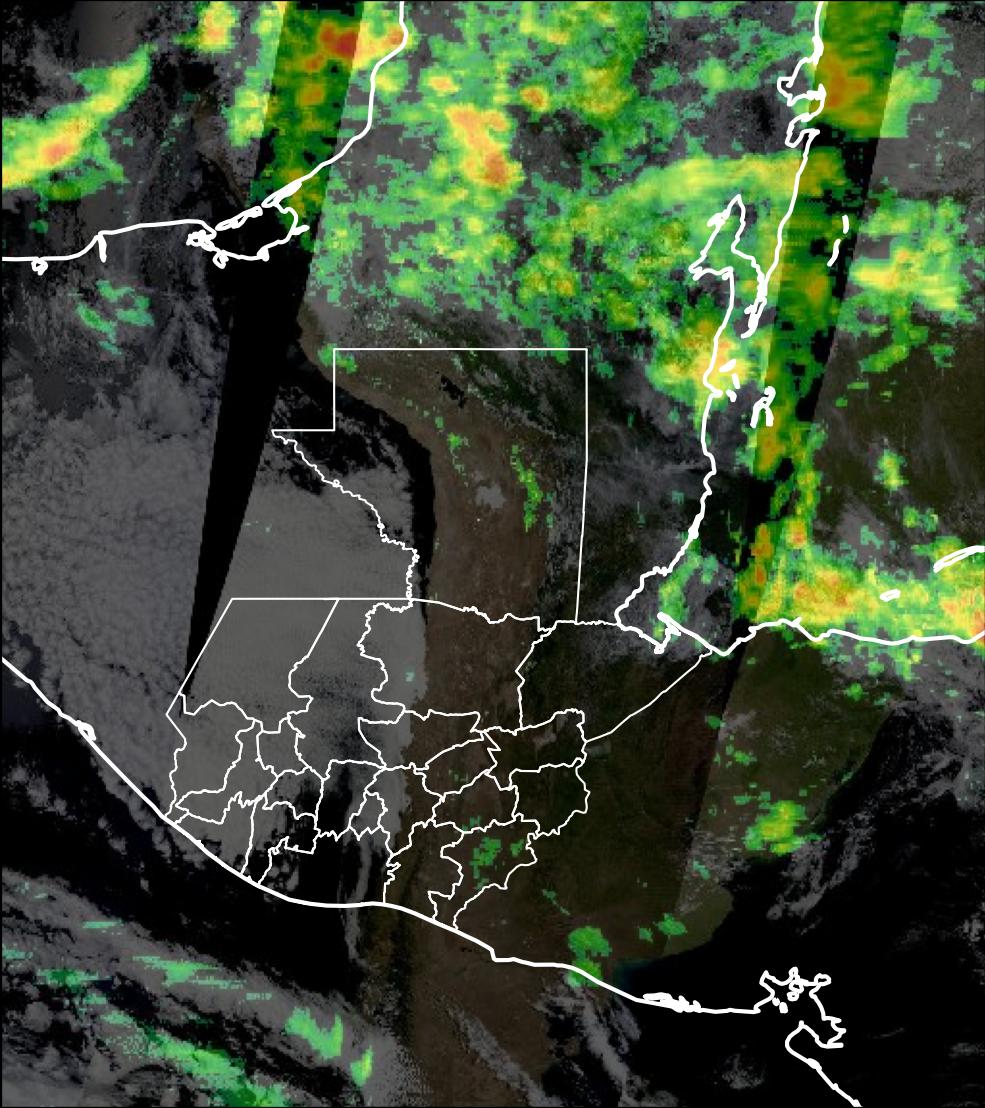precipitacion: (446, 97, 530, 205), (299, 16, 381, 74)
